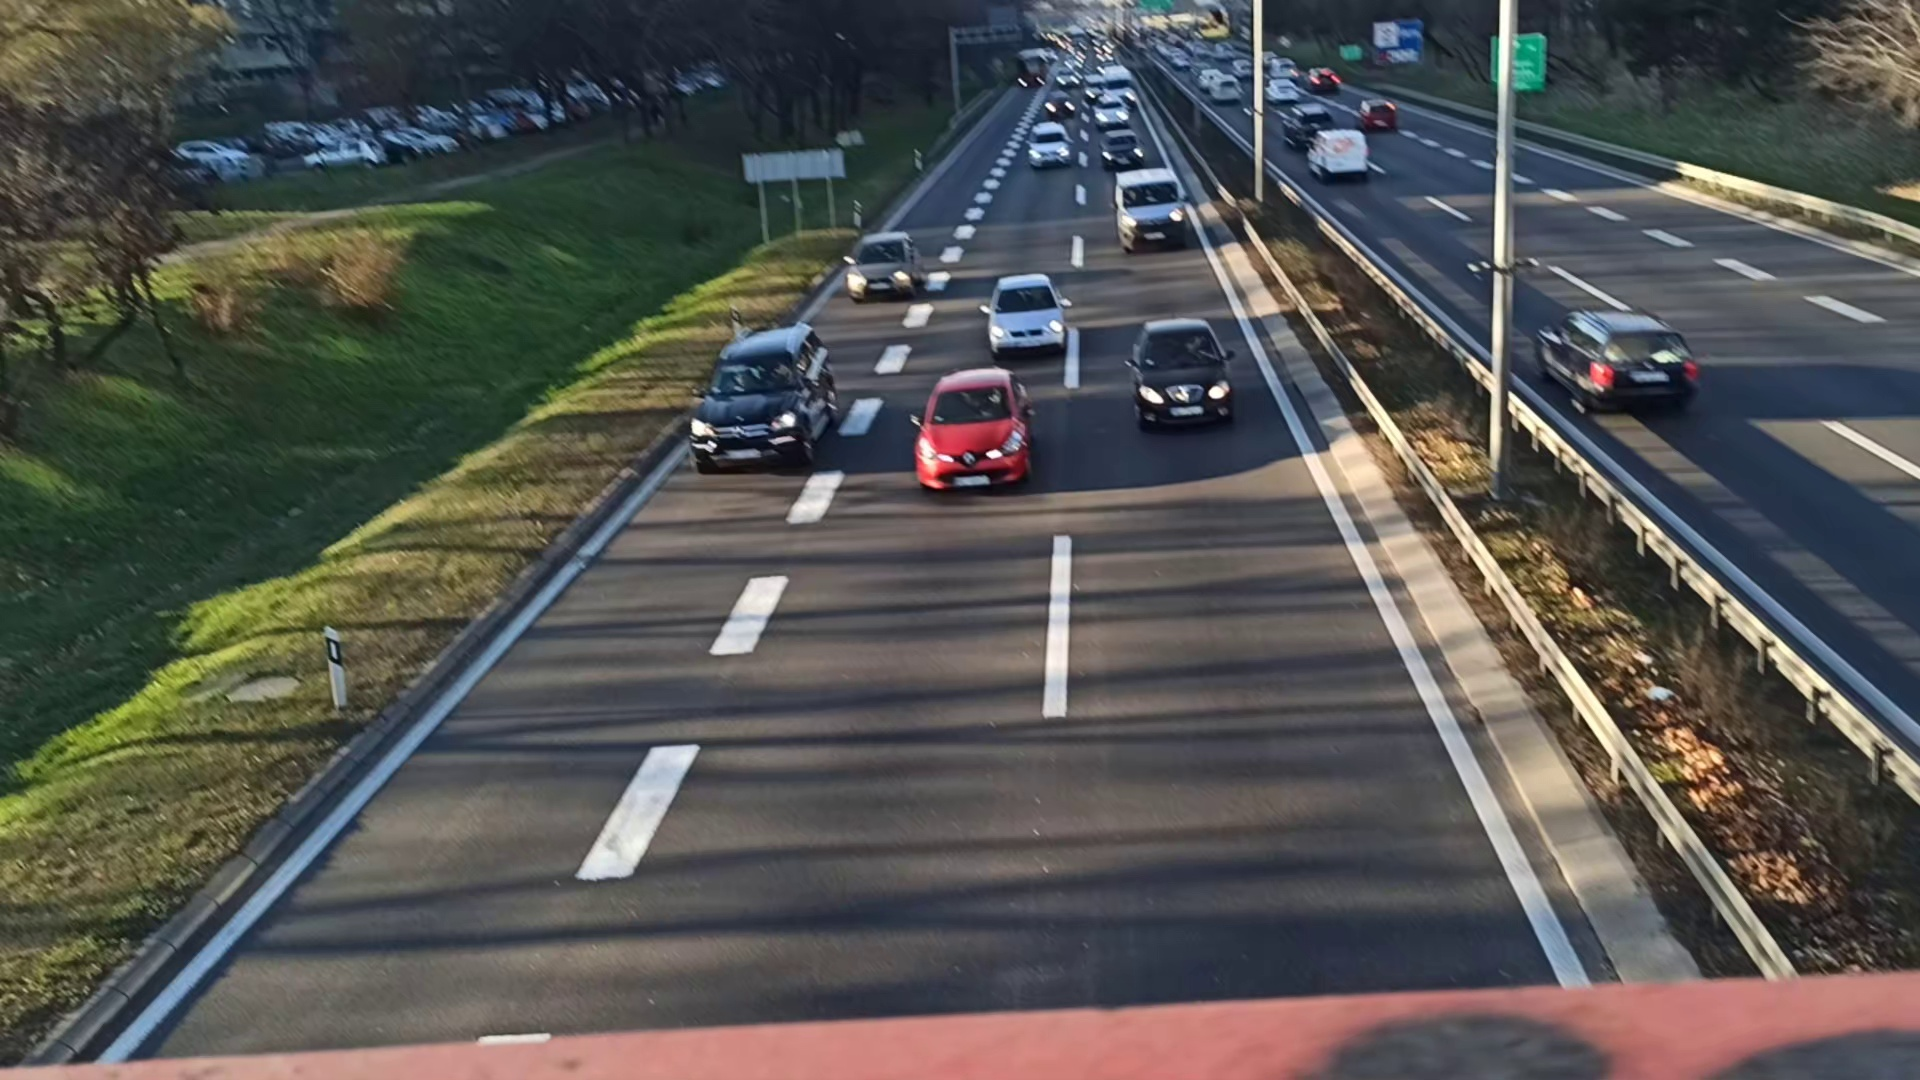car: (687, 327, 849, 477), (910, 368, 1035, 491), (1125, 319, 1230, 426), (982, 273, 1068, 355), (845, 229, 916, 299), (1026, 123, 1073, 169)
van: (1112, 164, 1182, 253)
